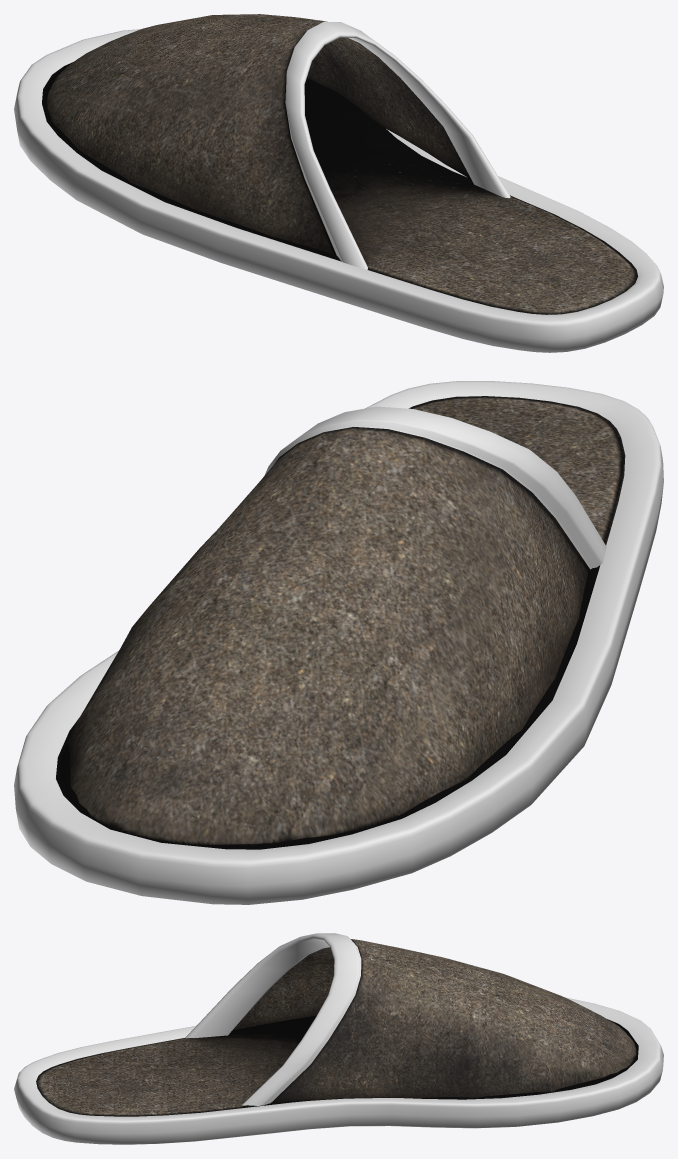
File: SingleSlipper.fbx
3 views of the same model, one above another, from view 1: azimuth 30°, elevation 25°; view 2: azimuth 150°, elevation 25°; view 3: azimuth 270°, elevation 25° (orthographic). The views are drawn at different scales.
Visible parts, largest first — view 1: Single authored slipper; view 2: Single authored slipper; view 3: Single authored slipper.
Boxes of the visible parts, left/top/right/bottom form: Single authored slipper: left=14, top=14, right=663, bottom=352; Single authored slipper: left=14, top=381, right=663, bottom=904; Single authored slipper: left=14, top=933, right=663, bottom=1144.
Size of the model in its own units: 13.51 by 6.72 by 28.
2 materials, 1 textured.
